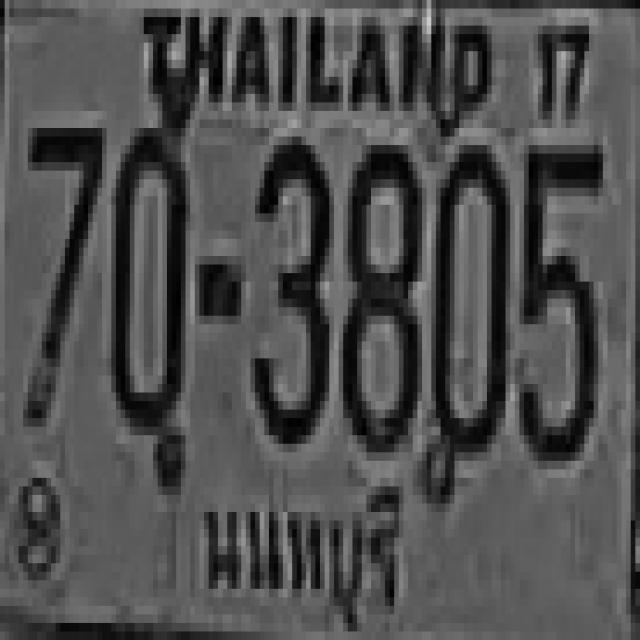0: (426, 141, 506, 456), (106, 124, 186, 431)
3: (250, 133, 330, 440)
5: (515, 137, 598, 452)
7: (26, 120, 100, 418)
8: (338, 141, 418, 448)
Nonthaburi: (198, 480, 408, 624)
